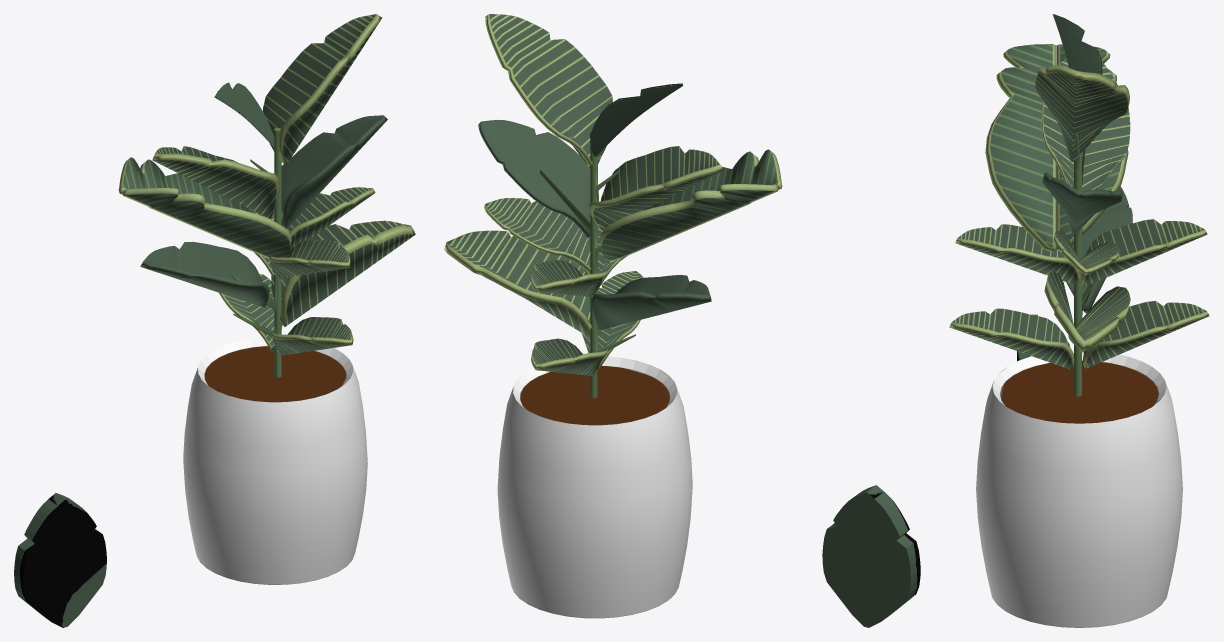
Rendered from BackPlant.gltf.
3 views of the same model, side by side, from view 1: azimuth 30°, elevation 25°; view 2: azimuth 150°, elevation 25°; view 3: azimuth 270°, elevation 25° (orthographic). The views are drawn at different scales.
Parts seen in each view (by area): view 1: Pot, Cube.003, Leaf3, Leaf3.003, Leaf1.1, Leaf4, Leaf4.001, Leaf3.001, Leaf3.002, Leaf1.002, Leaf3.005, Leaf3.004 (+3 smaller); view 2: Pot, Cube.003, Leaf3, Leaf4, Leaf3.003, Leaf3.001, Leaf1.002, Leaf4.001, Leaf3.002, Leaf1.1, Leaf2, Long_Vine (+3 smaller); view 3: Pot, Leaf1.1, Leaf3, Leaf3.005, Leaf3.001, Leaf3.007, Leaf3.006, Leaf3.004, Leaf3.003, Leaf4, Leaf4.001, Leaf2 (+3 smaller).
Boxes of the visible parts, x1,y1,x2,y2 form: Pot: (183, 337, 367, 584); Cube.003: (14, 493, 106, 627); Leaf3: (263, 14, 381, 165); Leaf3.003: (271, 220, 415, 326); Leaf1.1: (123, 188, 291, 258); Leaf4: (281, 115, 387, 228); Leaf4.001: (140, 241, 269, 307); Leaf3.001: (152, 146, 279, 218); Leaf3.002: (281, 187, 375, 250); Leaf1.002: (118, 157, 252, 212); Leaf3.005: (271, 317, 353, 355); Leaf3.004: (269, 239, 350, 278); Pot: (497, 356, 692, 618); Cube.003: (822, 485, 920, 627); Leaf3: (485, 14, 612, 169); Leaf4: (478, 120, 598, 237); Leaf3.003: (444, 230, 591, 337); Leaf3.001: (589, 146, 723, 230); Leaf1.002: (600, 184, 778, 262); Leaf4.001: (592, 275, 711, 330); Leaf3.002: (484, 198, 590, 271); Leaf1.1: (644, 149, 782, 210); Leaf2: (590, 83, 682, 156); Long_Vine: (540, 143, 635, 397); Pot: (976, 350, 1182, 627); Leaf1.1: (985, 44, 1056, 251); Leaf3: (1035, 65, 1129, 161); Leaf3.005: (949, 308, 1074, 369); Leaf3.001: (1041, 57, 1130, 190); Leaf3.007: (1081, 219, 1207, 287); Leaf3.006: (1082, 300, 1209, 368); Leaf3.004: (955, 224, 1080, 284); Leaf3.003: (1044, 271, 1130, 352); Leaf4: (1042, 172, 1122, 234); Leaf4.001: (1066, 186, 1132, 313); Leaf2: (1052, 14, 1102, 74).
Size of the model in its own units: 9.43 by 10.97 by 4.51.
Materials: 15 (15 with a texture image).
